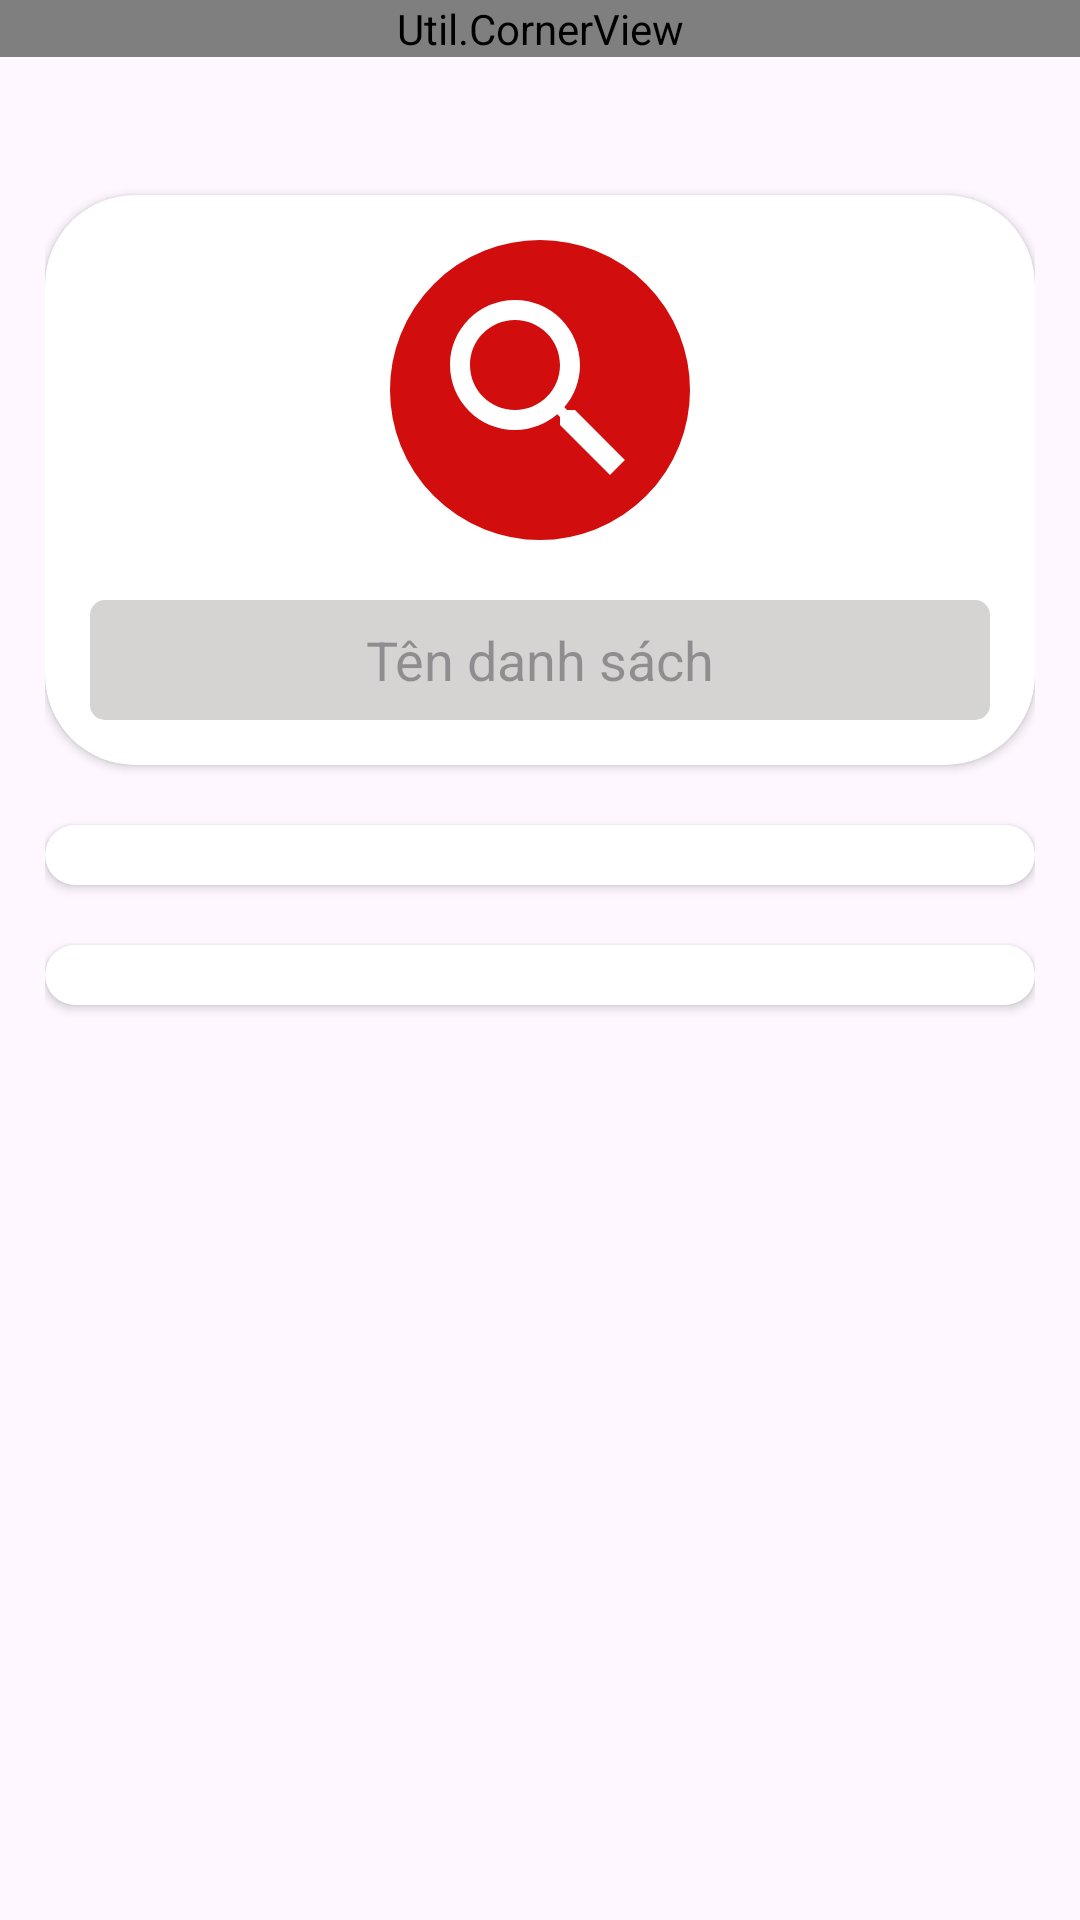

Point at icon controls on the screen. Image size 1080px×1920px, points as point (x, y).
search: point (540, 390)
